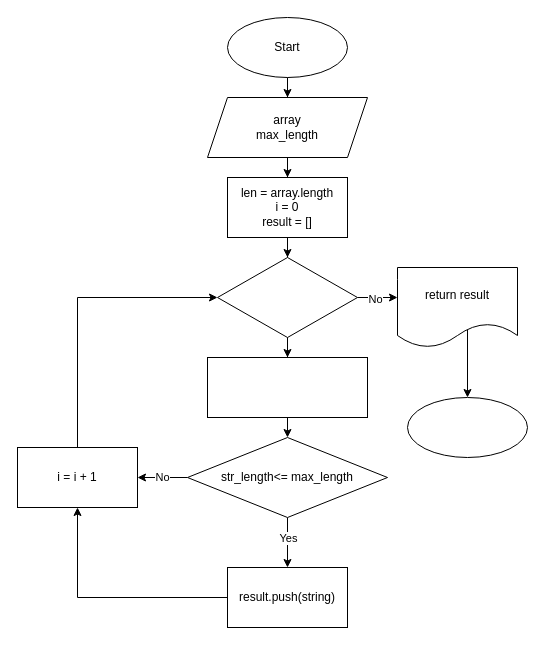
The diagram is 545 pixels wide and 645 high, and some of its shapes have lost their labels. The shapes that lost their labels are listed below. From the top down, each one's centre as x and y in pixels, then its label:
At point (287, 297): "i < len".
At point (287, 387): "str = array[i] str_length = str.length".
At point (467, 427): "End".
